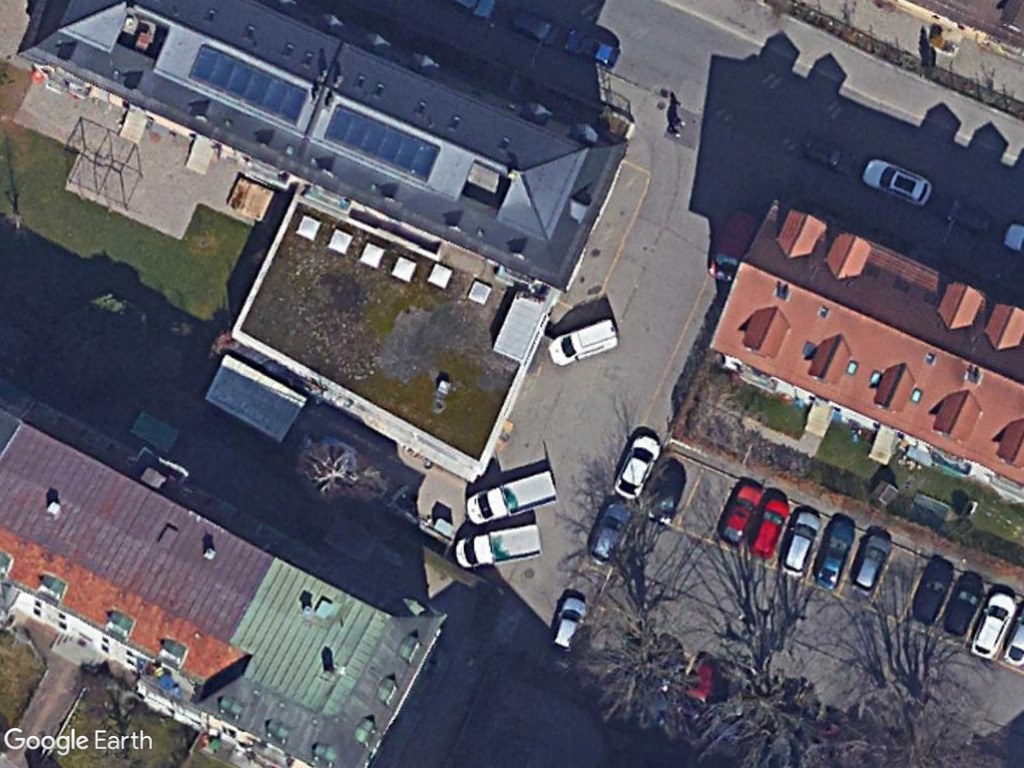car: (858, 155, 936, 210), (967, 590, 1015, 663), (811, 517, 858, 590), (611, 435, 662, 502), (777, 508, 825, 579), (717, 483, 768, 547), (851, 531, 896, 598), (746, 497, 793, 561), (547, 594, 589, 654)
others: (464, 467, 559, 525), (454, 521, 545, 570)
van: (547, 317, 619, 365)
